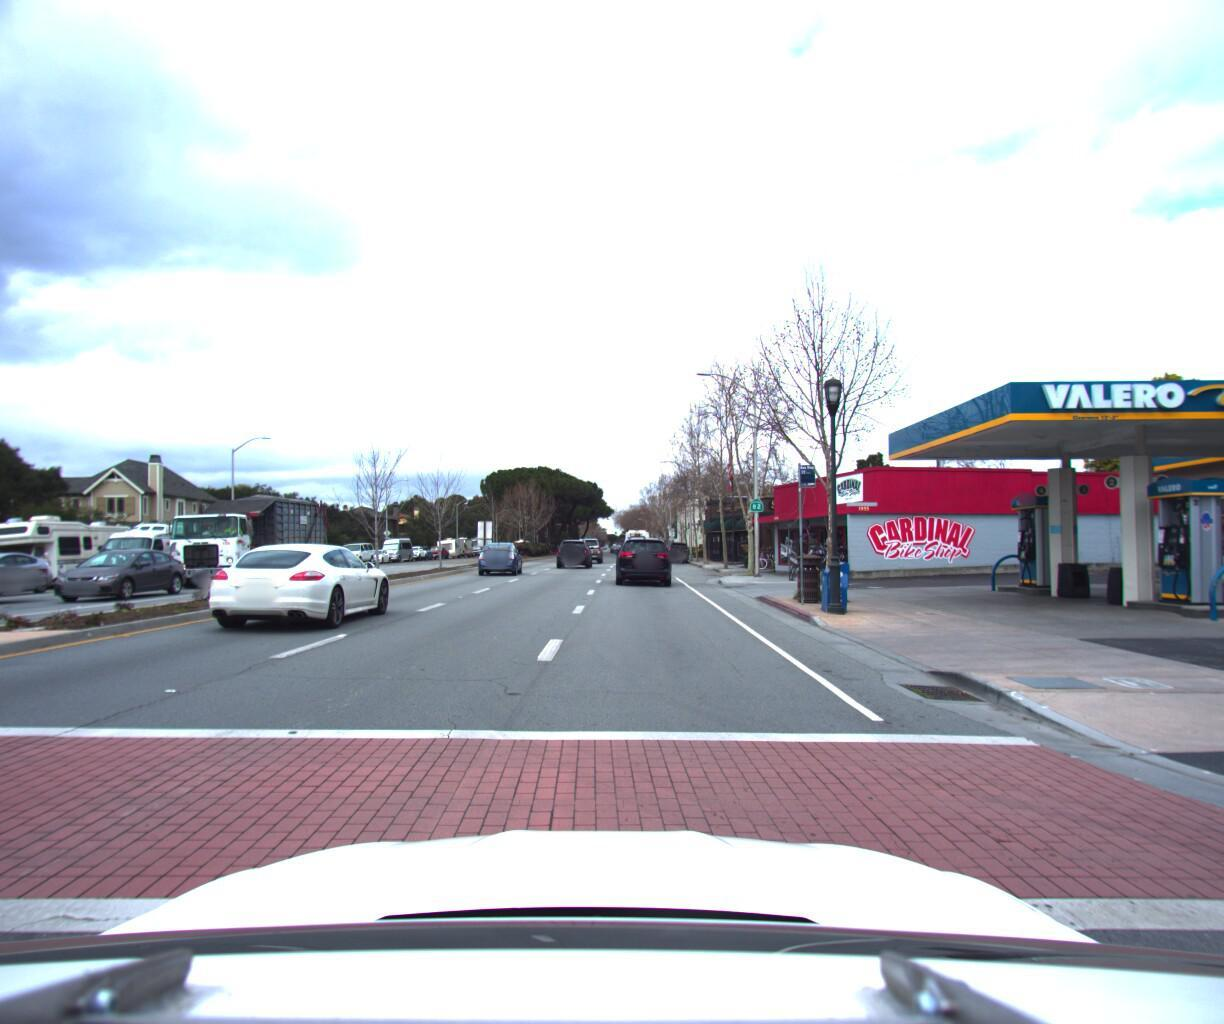bicycle: (787, 546, 829, 574)
car: (200, 535, 400, 633), (77, 515, 220, 589), (44, 542, 197, 599), (0, 546, 66, 596), (613, 527, 673, 581), (479, 534, 525, 573), (555, 530, 593, 562), (338, 535, 380, 558), (572, 538, 604, 566), (667, 533, 692, 556)
other_vehicle: (0, 502, 144, 591)
truck: (0, 327, 48, 856), (149, 475, 340, 584), (621, 520, 648, 544)
